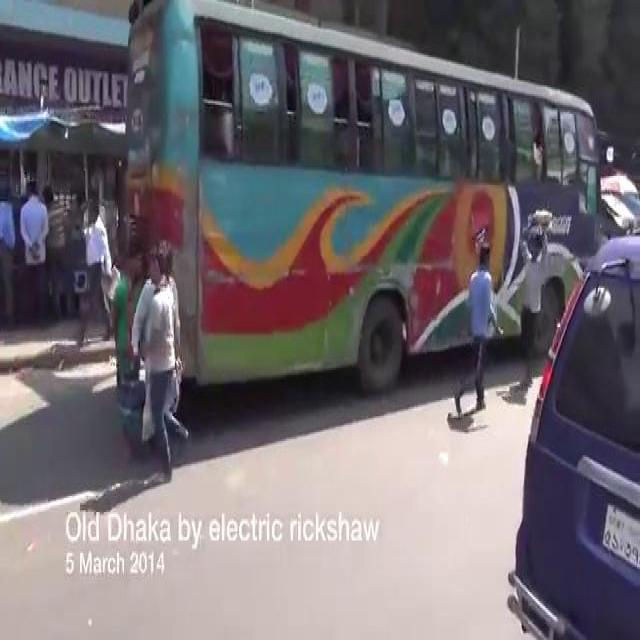vehicle: (113, 4, 614, 410), (502, 223, 638, 636)
